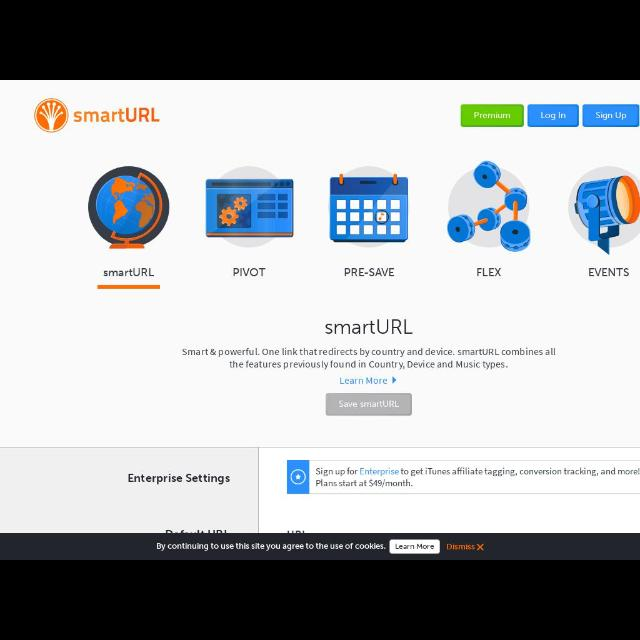icon: (476, 543, 484, 551), (392, 376, 396, 384)
image: (447, 160, 531, 252), (206, 166, 294, 248), (88, 166, 170, 250), (329, 165, 409, 248), (568, 166, 640, 256), (34, 98, 160, 132), (288, 461, 308, 494)
text: (182, 346, 556, 369), (315, 466, 639, 490), (157, 542, 386, 552), (324, 318, 414, 336), (127, 472, 230, 486), (342, 267, 396, 277), (102, 268, 154, 278), (588, 267, 630, 277), (232, 266, 266, 278), (339, 376, 389, 384), (476, 267, 502, 277), (446, 542, 474, 550)
textbutton: (325, 394, 411, 414), (461, 105, 523, 126), (583, 105, 639, 127), (528, 105, 578, 127), (390, 540, 440, 554)
